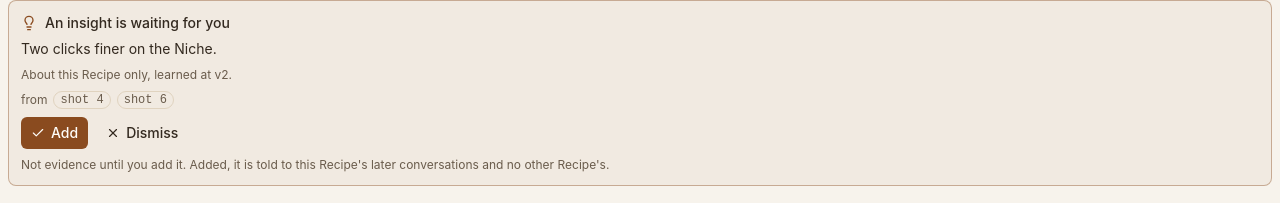
Test: ChatInsightCard › adds it on a press and then says so, and says whose conversations are told
The image size is (1280, 203).
Click the button "Add": click(55, 133) [21,117,88,149]
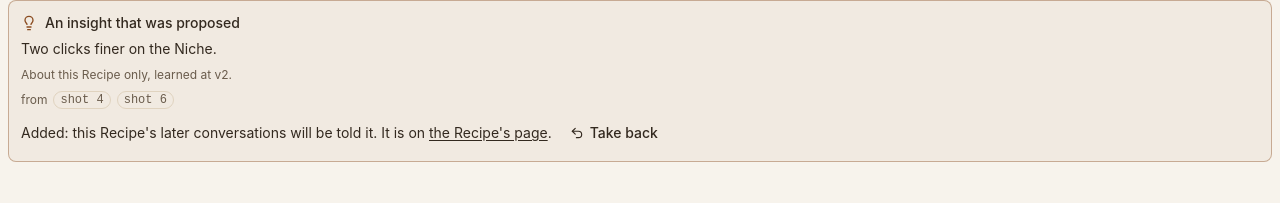
Now the element with test id "chat-insight-decided" shows "Added: this Recipe's later conversations will be told it.", box [21,124,377,141]
